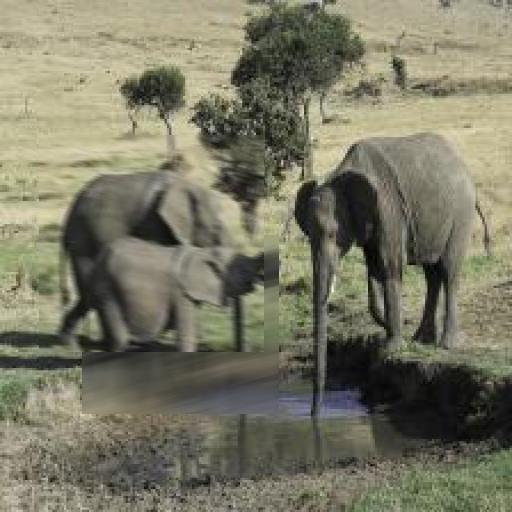Elephant: (295, 130, 495, 416), (39, 135, 264, 352), (82, 235, 279, 414)
